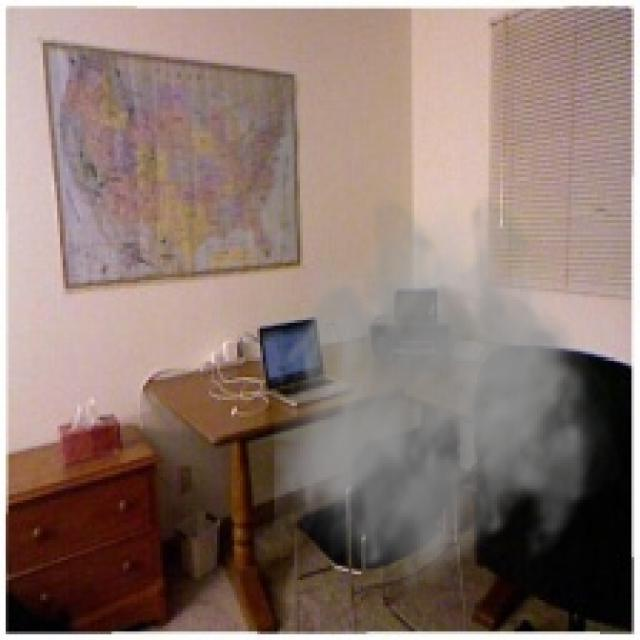smoke: (274, 191, 623, 600)
